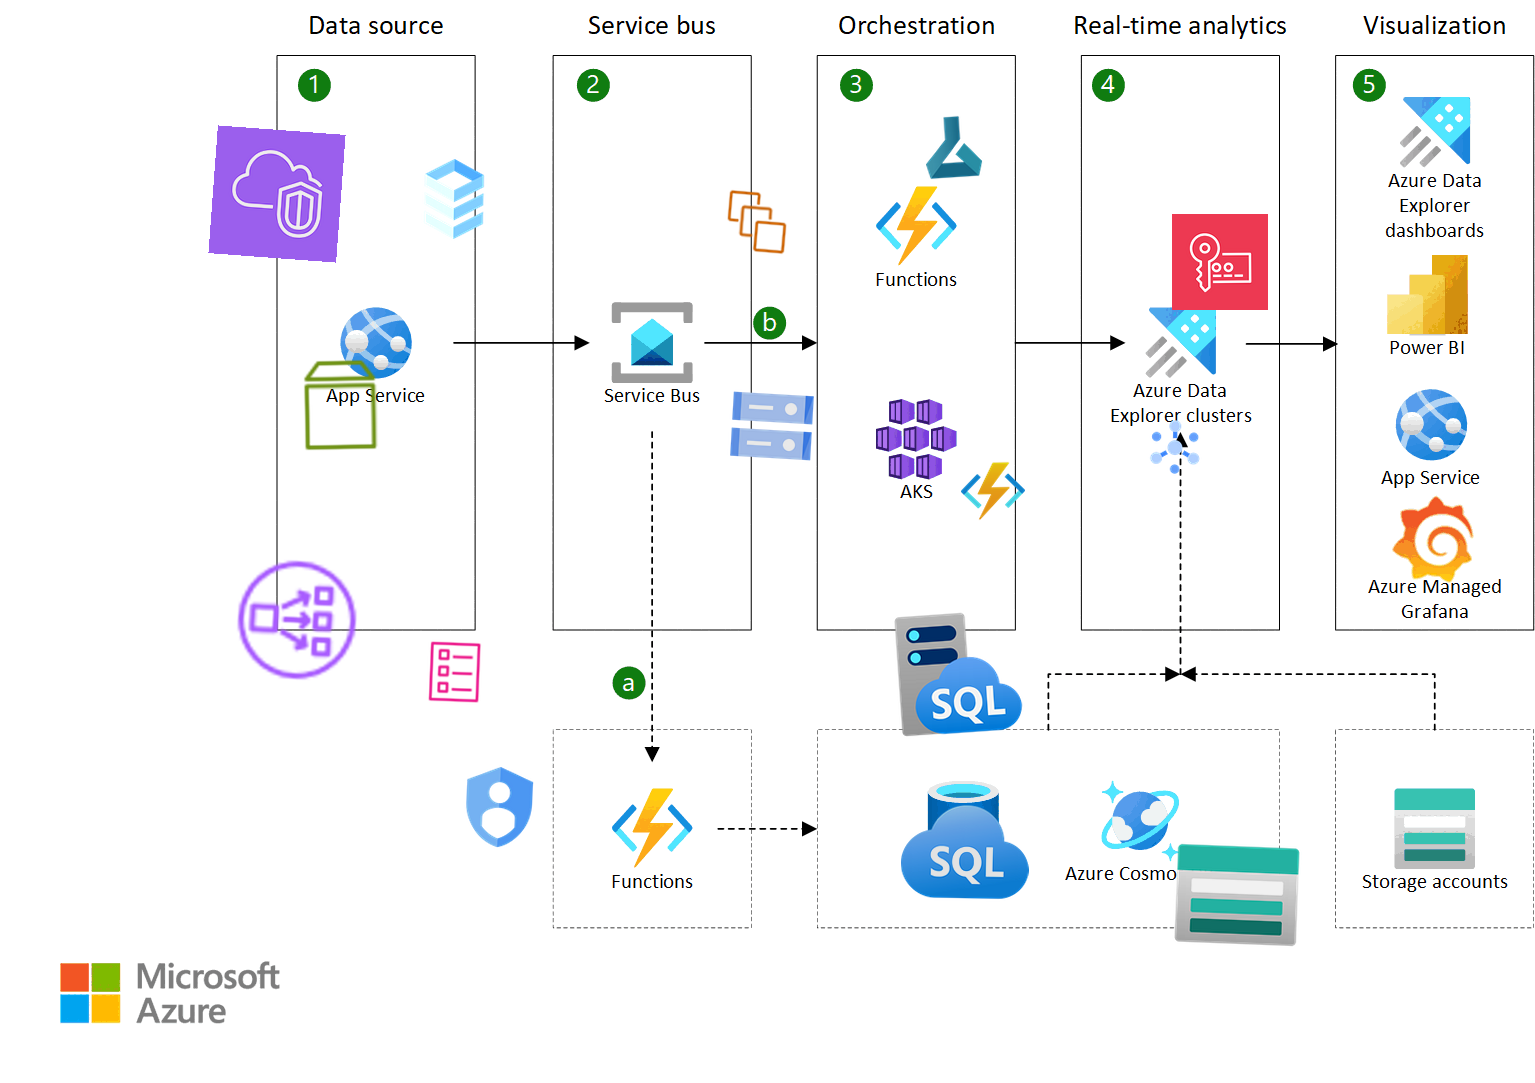aws_amazon_virtual_private_cloud: (209, 125, 346, 263)
aws_cloudformation_template: (419, 638, 487, 706)
aws_ec2_instances: (722, 188, 792, 257)
aws_elastic_block_store_volume: (292, 356, 390, 454)
aws_elastic_load_balancing_network_load_balancer: (228, 552, 364, 688)
aws_key_management_service: (1171, 213, 1269, 311)
azure_function_apps: (960, 458, 1026, 524)
azure_machine_learning: (917, 113, 988, 182)
azure_sql: (899, 788, 1031, 920)
azure_sql_managed_instance: (891, 604, 1028, 742)
azure_storage_accounts: (1171, 827, 1304, 962)
gcp_cloud_sql: (405, 150, 503, 248)
gcp_cloud_storage: (721, 375, 823, 477)
gcp_identity_and_access_management: (448, 756, 550, 858)
gcp_pubsub: (1142, 414, 1208, 481)
